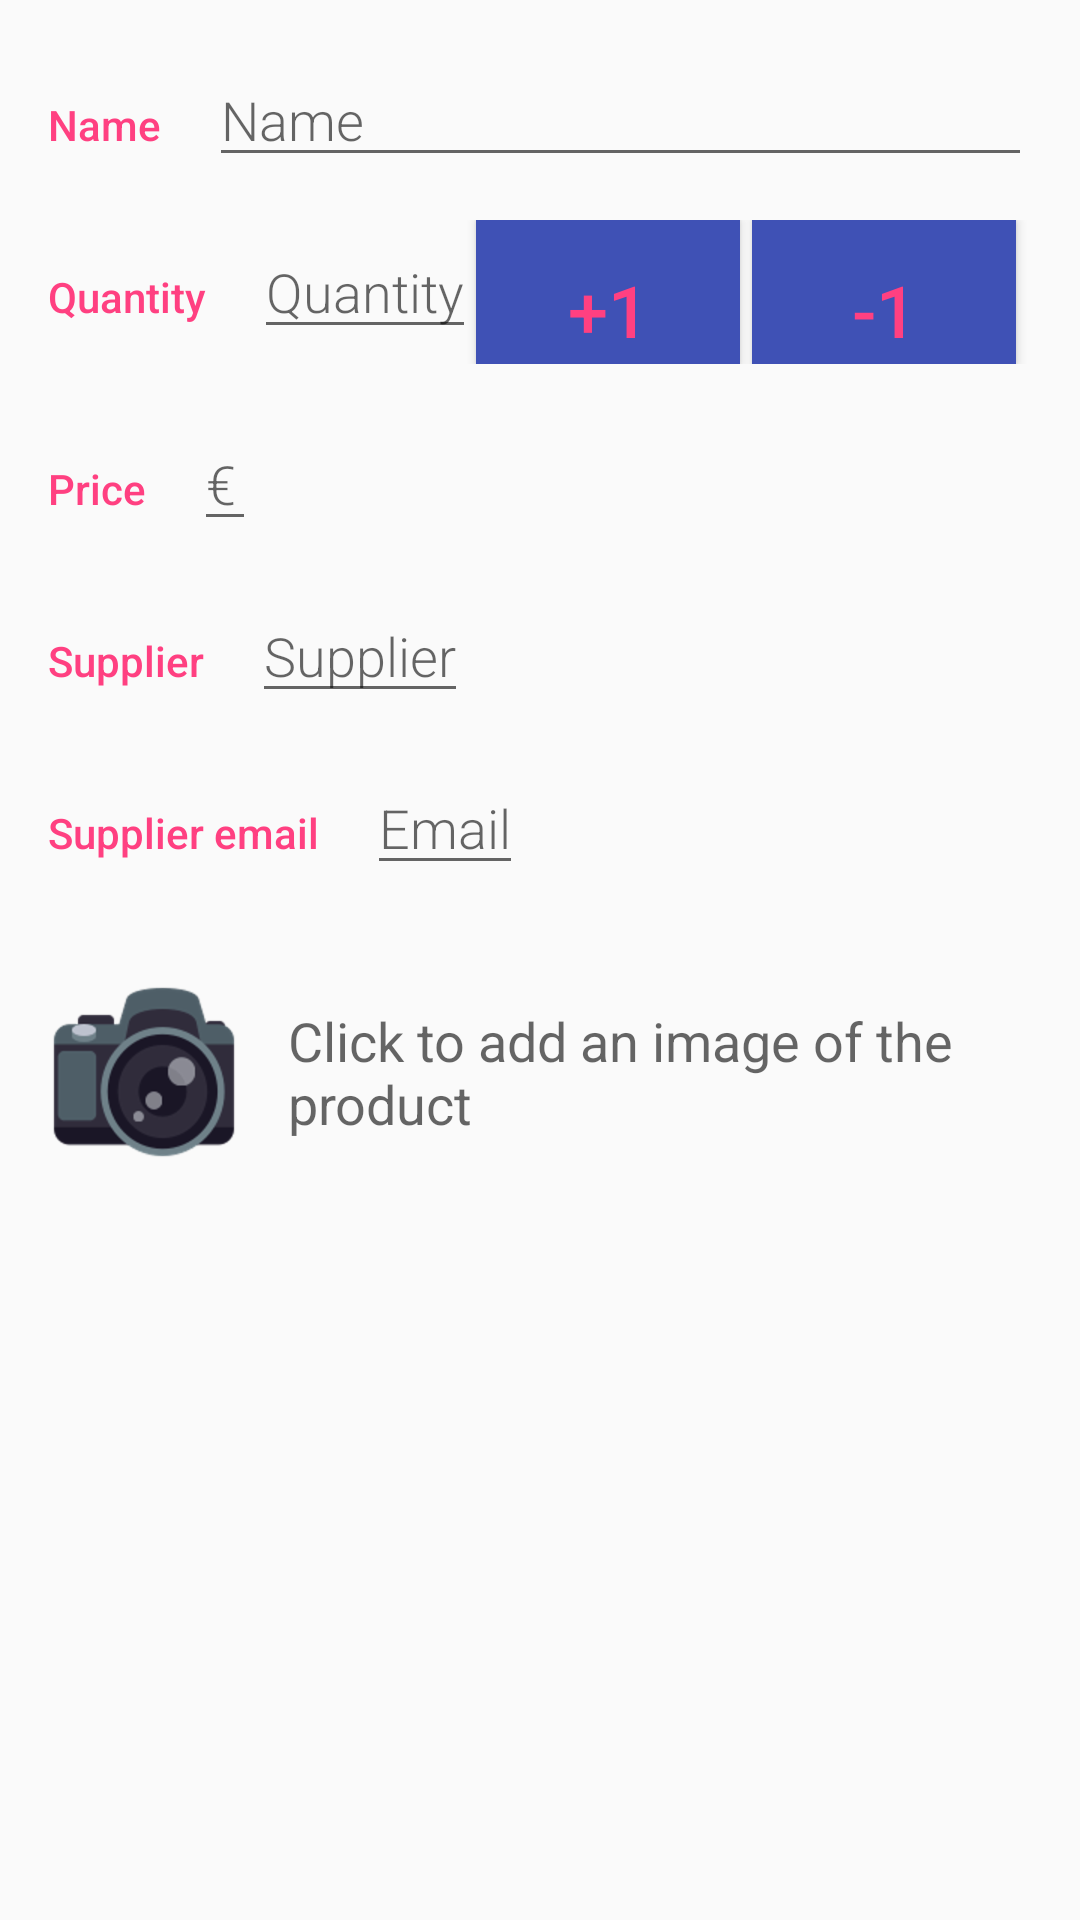

Icons on this 1080×1920 Android screen, each with its box as rect(x1, y1, x2, y2):
camera: rect(53, 987, 235, 1157)
